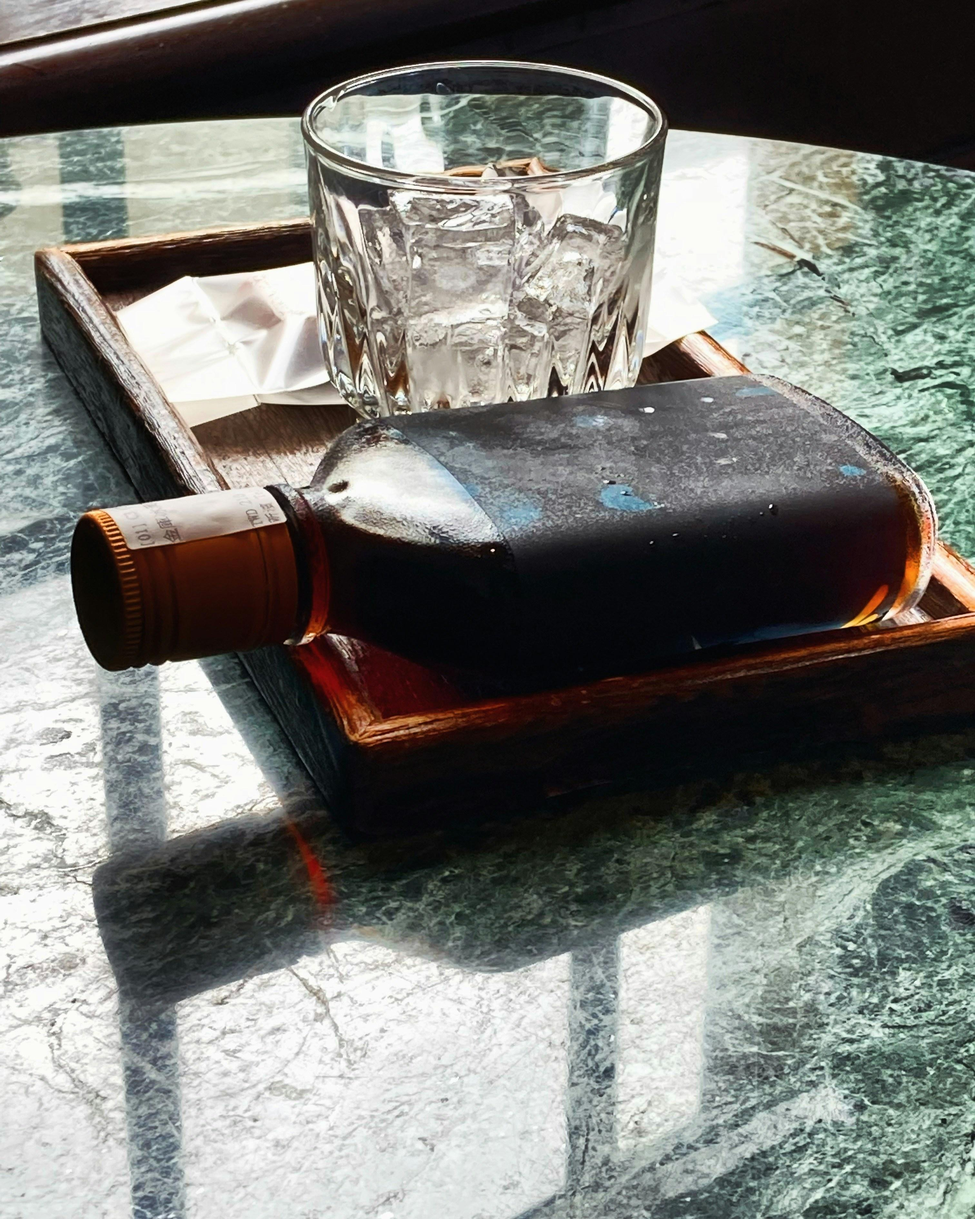Bottle-Detection: (55, 342, 958, 735)
